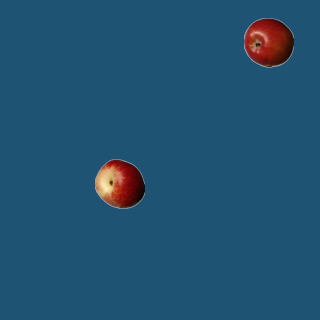Apple Braeburn: (243, 17, 293, 67)
Nectarine: (94, 158, 144, 208)
